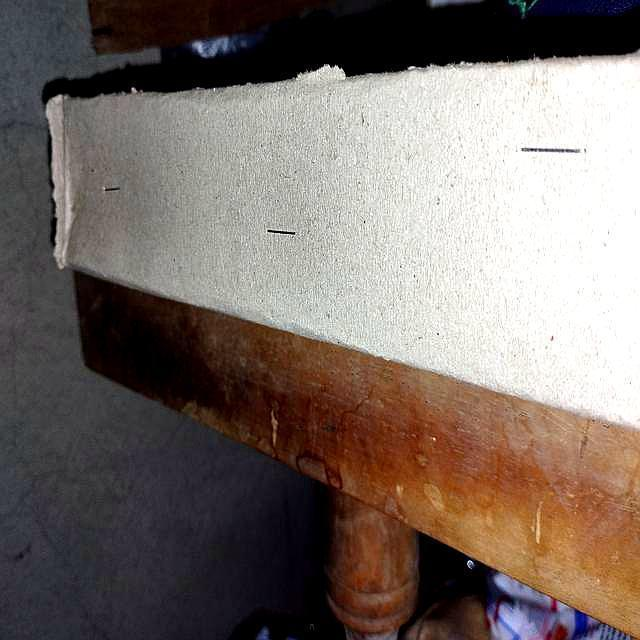Biodegradable: (40, 44, 640, 434)
